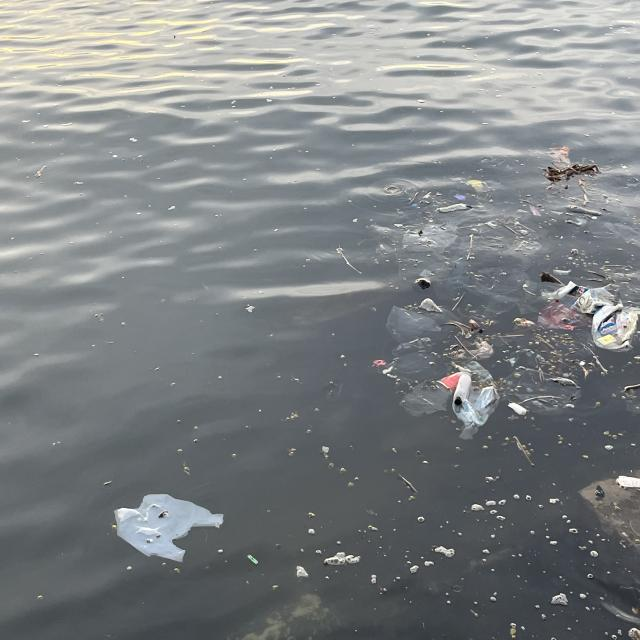foam: (508, 401, 527, 417), (617, 475, 640, 487)
plastic: (454, 372, 471, 407)
plastic bottle: (116, 494, 224, 563), (543, 280, 640, 351), (501, 368, 581, 417), (385, 335, 447, 385), (475, 268, 542, 312), (369, 222, 458, 254), (387, 306, 443, 342), (468, 384, 498, 443), (400, 386, 448, 416), (411, 298, 459, 327), (436, 202, 494, 225), (392, 256, 452, 278), (453, 354, 496, 384), (462, 234, 510, 256), (610, 268, 640, 303), (604, 221, 640, 248), (450, 340, 494, 361), (506, 237, 548, 257), (508, 348, 544, 371), (502, 220, 536, 237), (467, 180, 508, 192), (468, 221, 498, 237), (550, 146, 571, 166), (512, 317, 536, 333), (529, 204, 542, 218), (552, 270, 572, 275)
unknow: (543, 163, 600, 192), (436, 369, 466, 397), (548, 203, 602, 218)
